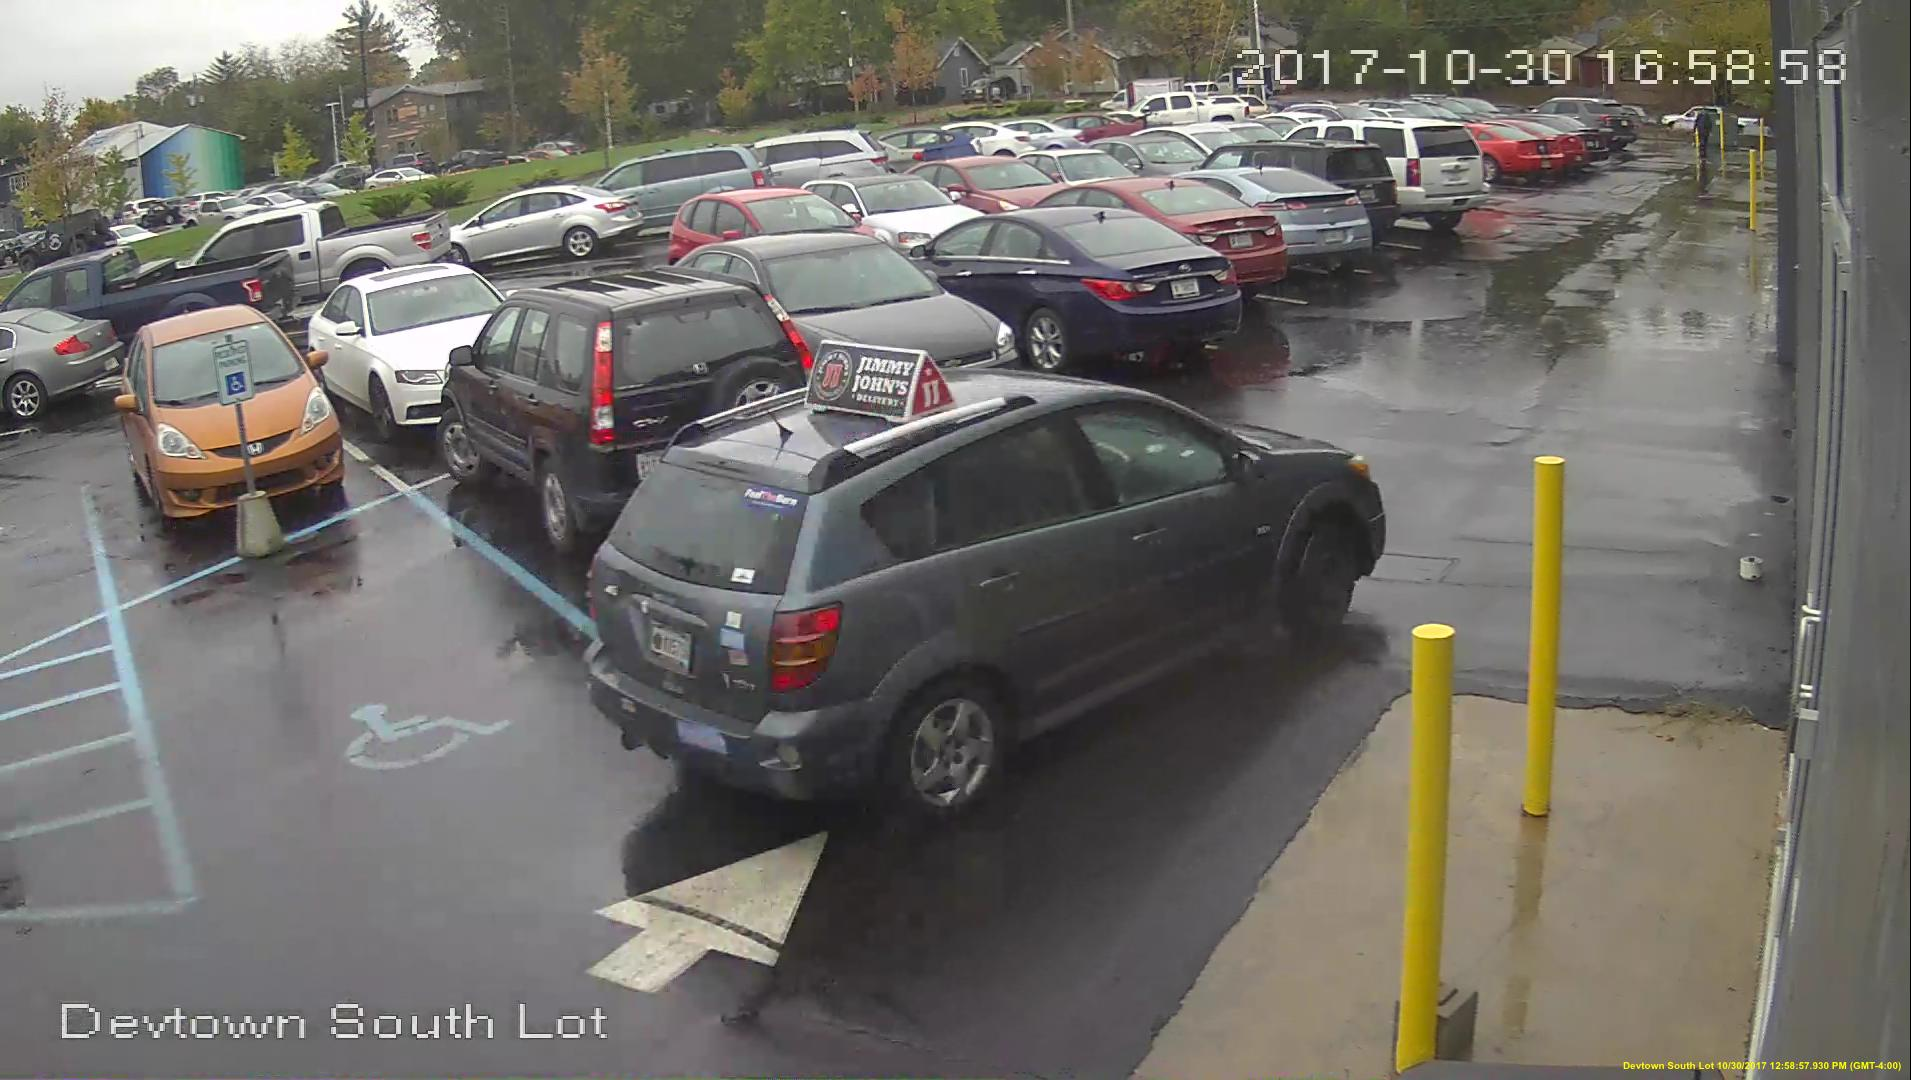jimmy_johns: (805, 339, 957, 430)
